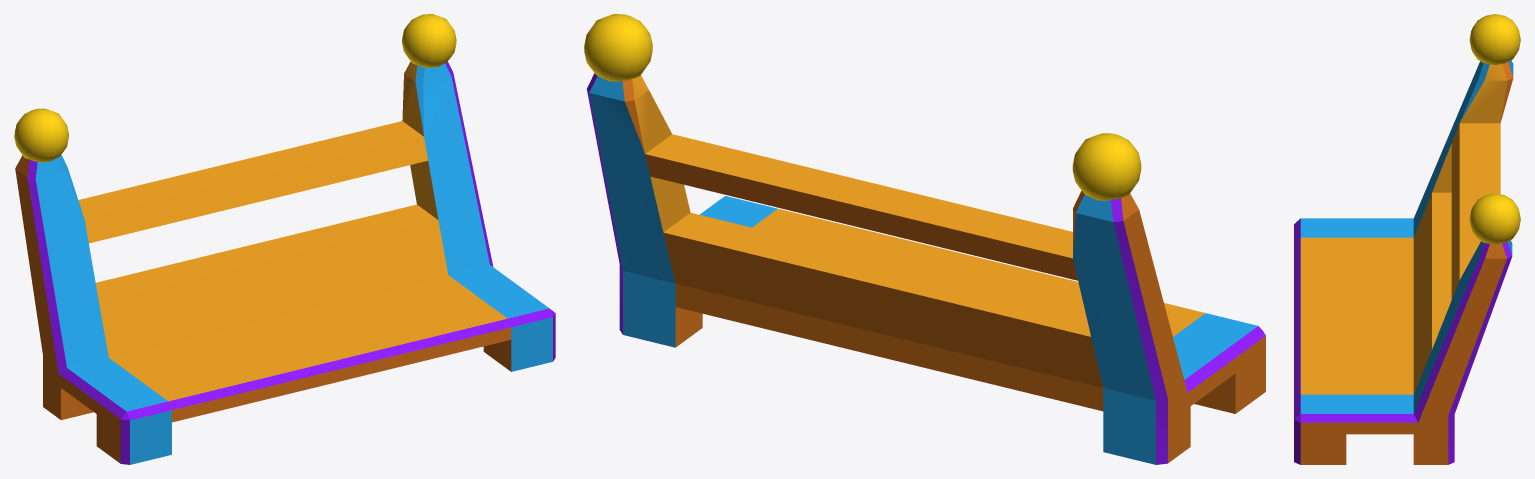
File: RoyalBench.fbx
3 renders of one model, left to right at view 1: azimuth 30°, elevation 25°; view 2: azimuth 150°, elevation 25°; view 3: azimuth 270°, elevation 25°, orthographic. The views are drawn at different scales.
Visible parts, largest first — view 1: RoyalBench; view 2: RoyalBench; view 3: RoyalBench.
Boxes of the visible parts, left/top/right/bottom form: RoyalBench: left=14, top=14, right=555, bottom=464; RoyalBench: left=584, top=14, right=1265, bottom=464; RoyalBench: left=1294, top=14, right=1520, bottom=464.
Bounding box in the file's own units: 117 × 69.77 × 55.6.
